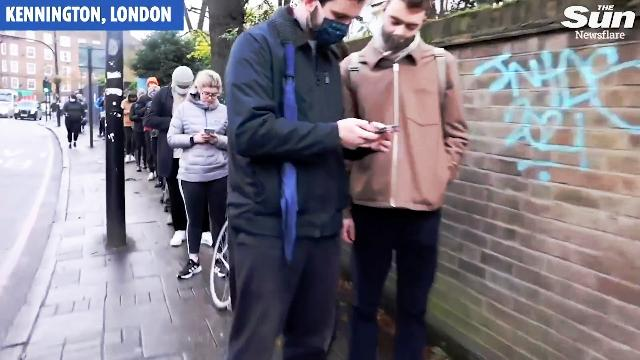berdiri: (223, 6, 364, 348), (352, 0, 470, 360)
